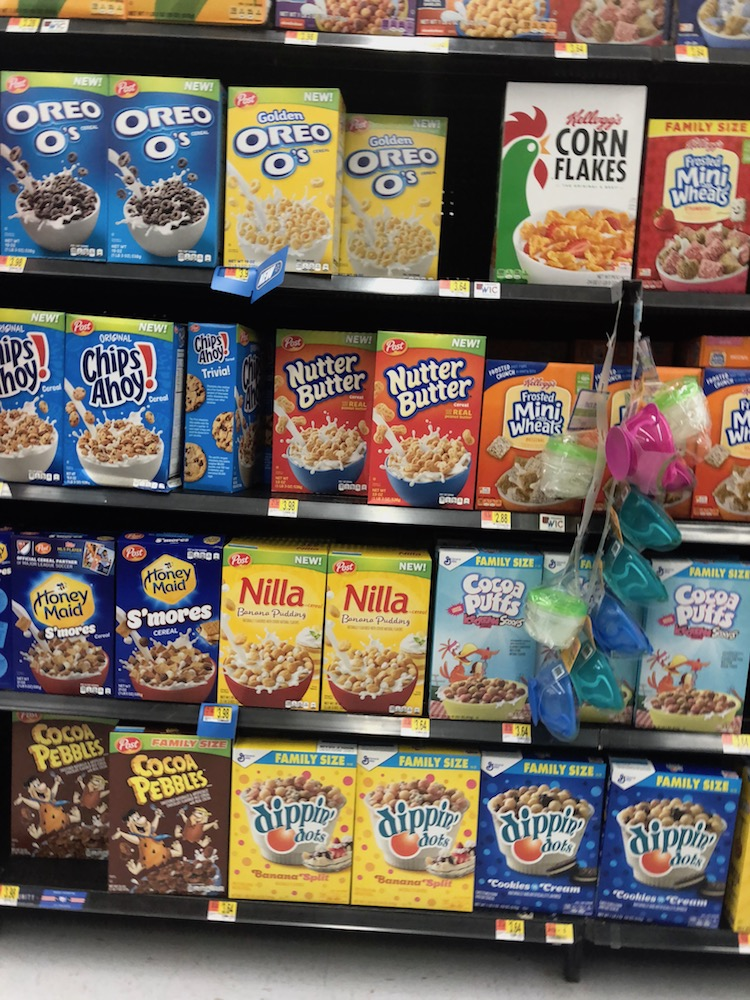Chips Ahoys-565717529: (62, 313, 182, 496), (1, 317, 62, 484)
Cocoa Pebbles-555517893: (110, 737, 236, 894), (11, 713, 112, 867)
Cocoa Puffs Ice Cream-563408546: (635, 552, 750, 733), (426, 554, 540, 719)
Dippin Dots Banana-568929376: (354, 743, 476, 916), (227, 745, 353, 896)
Dippin Dots Cookies & Cream -568929378: (596, 755, 740, 926), (477, 753, 603, 917)
Honey Maid Graham -563424385: (114, 536, 225, 699), (8, 534, 114, 695)
Mini Wheats Straw-567084832: (626, 119, 750, 286)
Nilla -568301014: (216, 537, 328, 713), (315, 545, 427, 714)
Nutter Butter-565717511: (371, 333, 485, 506), (275, 323, 379, 498)
Oreo Golden-568301011: (219, 79, 335, 263), (333, 106, 452, 271)
Oreo-563424384: (105, 82, 227, 264), (1, 90, 106, 269)
